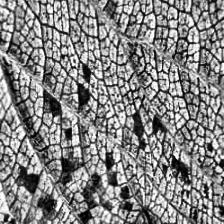Angular Leafspot: (0, 60, 224, 224)
